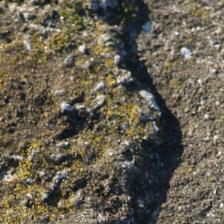Crack: (111, 13, 192, 222)
